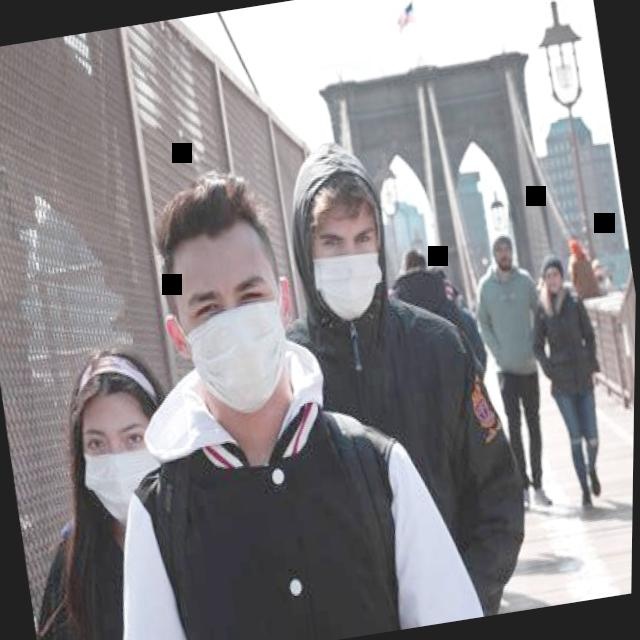Mask: (155, 212, 305, 420), (292, 168, 399, 326), (70, 377, 173, 527)
NO-Mask: (491, 237, 519, 276), (540, 260, 566, 296)
